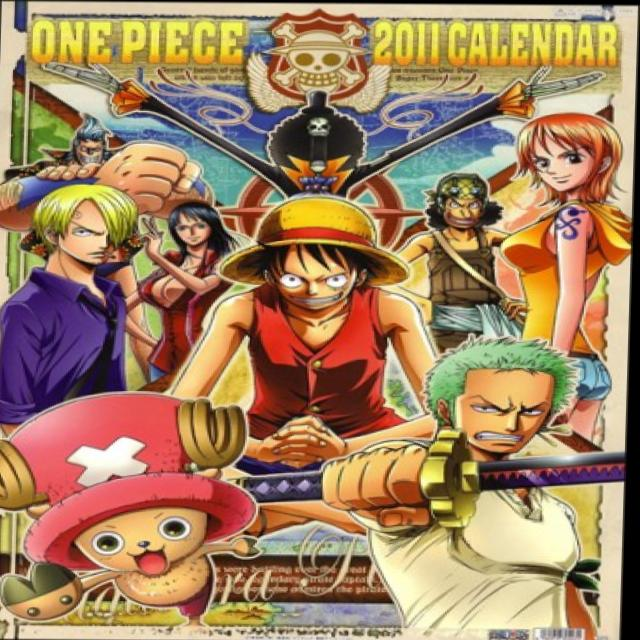Blook: (251, 83, 407, 189)
Chyopa: (0, 396, 264, 640)
Franky: (46, 105, 154, 178)
Luffy: (210, 191, 440, 318)
Nami: (506, 106, 623, 204)
NicoRobin: (136, 189, 243, 261)
Sangdi: (15, 182, 153, 281)
Usopp: (410, 172, 508, 242)
Zoro: (417, 331, 586, 461)
